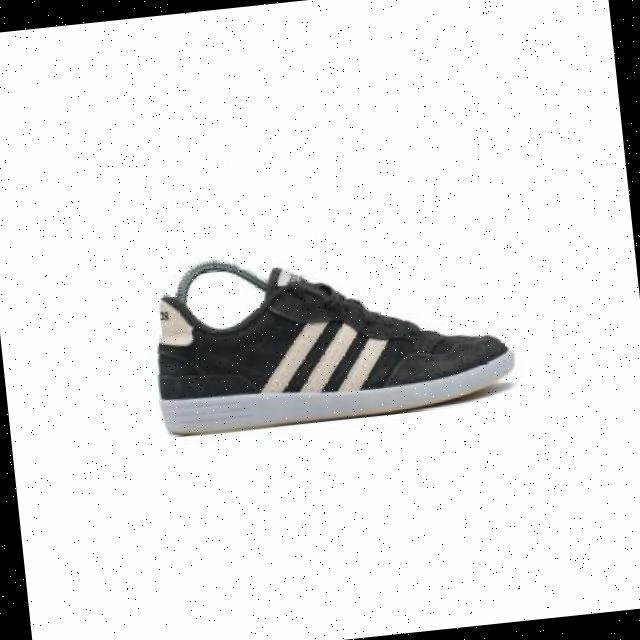Adidas: (248, 306, 395, 417)
